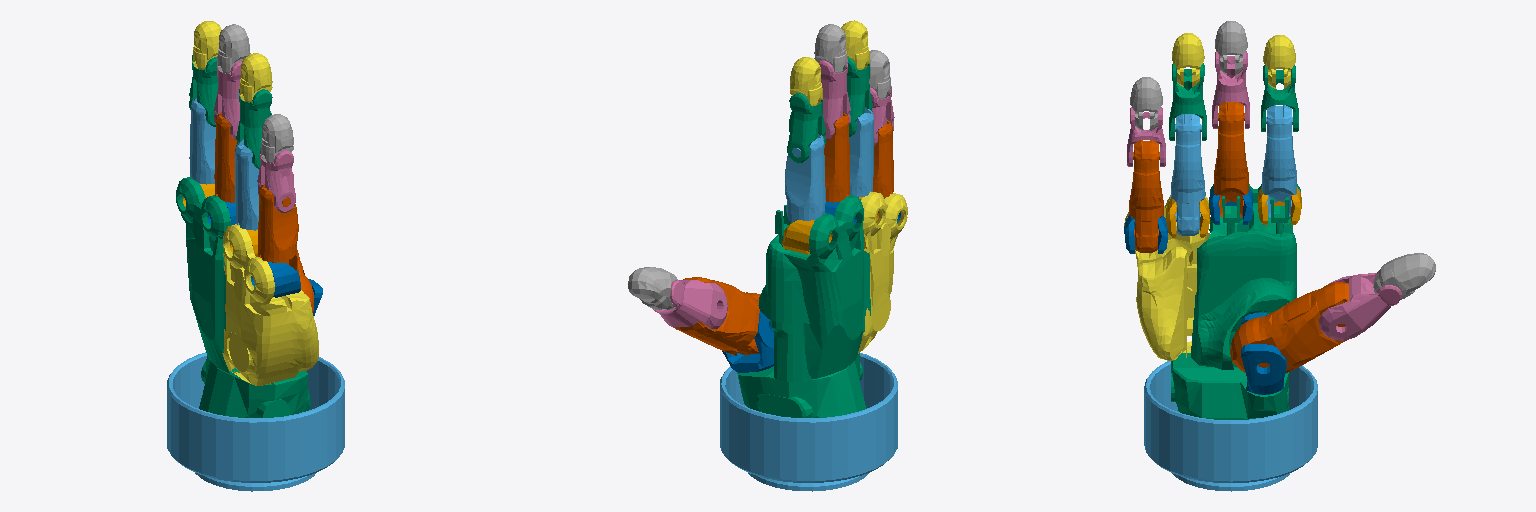
robot.urdf — svh:
<?xml version="1.0" encoding="utf-8"?>
<robot name="svh">
  <link name="base_link"/>
  <joint name="root_joint" type="fixed">
    <parent link="base_link"/>
    <child link="right_hand_base_link"/>
    <origin rpy="0 0 -1.57079" xyz="0 0 0"/>
  </joint>
  <link name="right_hand_base_link">
    <origin rpy="0 0 0" xyz="0 0 0"/>
    <visual>
      <origin rpy="0 0 0" xyz="0 0 -0.032"/>
      <geometry>
        <mesh filename="meshes/visual/base10.obj"/>
      </geometry>
    </visual>
    <collision>
      <origin rpy="0 0 0" xyz="0 0 -0.009"/>
      <geometry>
        <cylinder radius="0.045" length="0.045"/>
      </geometry>
    </collision>
  </link>
  <!-- LENGTH NOT FOUND IN DATASHEET! GUESSED!!! -->
  <link name="right_hand_e1">
    <visual>
      <origin rpy="0 0 0" xyz="0 0.01313 0"/>
      <geometry>
        <mesh filename="meshes/visual/h10.obj" scale="1 1 1"/>
      </geometry>
    </visual>
    <collision>
      <origin rpy="0 0 0" xyz="0 0.01313 0.013"/>
      <geometry>
        <box size="0.05 0.05 0.026"/>
      </geometry>
    </collision>
    <collision>
      <origin rpy="0 0 0" xyz="-0.00573 0.0035 0.05747"/>
      <geometry>
        <box size="0.0584 0.038 0.0641"/>
      </geometry>
    </collision>
<!--    <collision>-->
<!--      <origin rpy="0 0 0" xyz="0.0075 0.028 0.043"/>-->
<!--      <geometry>-->
<!--        <box size="0.02 0.01 0.02"/>-->
<!--      </geometry>-->
<!--    </collision>-->
<!--    <collision>-->
<!--      <origin rpy="0 0 0" xyz="-0.0186 0.028 0.069"/>-->
<!--      <geometry>-->
<!--        <box size="0.02 0.01 0.0147"/>-->
<!--      </geometry>-->
<!--    </collision>-->
<!--    <collision>-->
<!--      <origin rpy="0 0.7854 0" xyz="0 0.028 0.06"/>-->
<!--      <geometry>-->
<!--        <box size="0.0286 0.01 0.0147"/>-->
<!--      </geometry>-->
<!--    </collision>-->
  </link>
  <!-- LENGTH NOT FOUND IN DATASHEET! GUESSED!!! -->
  <link name="right_hand_e2">
    <visual>
      <origin xyz="-0.0007 0 -0.01002"/>
      <geometry>
        <mesh filename="meshes/visual/h11.obj" scale="1 1 1"/>
      </geometry>
    </visual>
    <collision>
      <origin rpy="0 0 0" xyz="0.016 0 0.02"/>
      <geometry>
        <box size="0.0246 0.035 0.0564"/>
      </geometry>
    </collision>
    <collision>
      <origin rpy="0 0 0" xyz="0.0032 -0.0083 0.048"/>
      <geometry>
        <box size="0.012 0.018 0.021"/>
      </geometry>
    </collision>
  </link>
  <!-- THUMB LINKS -->
  <link name="right_hand_z">
    <visual>
      <origin xyz="0 0 0.02442"/>
      <geometry>
        <mesh filename="meshes/visual/d10.obj" scale="1 1 1"/>
      </geometry>
    </visual>
    <collision>
      <origin xyz="0 0 0.02842"/>
      <geometry>
        <box size="0.024 0.0188 0.008"/>
      </geometry>
    </collision>
    <collision>
      <origin xyz="0.0125 0.0 0.04292"/>
      <geometry>
        <box size="0.006 0.024 0.033"/>
      </geometry>
    </collision>
    <collision>
      <origin xyz="-0.0125 0.0 0.04292"/>
      <geometry>
        <box size="0.006 0.024 0.033"/>
      </geometry>
    </collision>
  </link>
  <link name="right_hand_a">
    <visual>
      <geometry>
        <mesh filename="meshes/visual/d11.obj" scale="1 1 1"/>
      </geometry>
    </visual>
    <collision>
      <geometry>
        <mesh filename="meshes/collision/d11.obj" scale="1 1 1"/>
      </geometry>
    </collision>
  </link>
  <link name="right_hand_b">
    <visual>
      <geometry>
        <mesh filename="meshes/visual/d12.obj" scale="1 1 1"/>
      </geometry>
    </visual>
    <collision>
      <geometry>
        <mesh filename="meshes/collision/d12.obj" scale="1 1 1"/>
      </geometry>
    </collision>
  </link>
  <link name="right_hand_c">
    <inertial>
      <origin rpy="0 0 0" xyz="0.007 0.000 0.000"/>
      <mass value="0.02"/>
      <inertia ixx="1e-5" ixy="0.0" ixz="0.0" iyy="2e-5" iyz="0.0" izz="2e-5"/>
    </inertial>
    <visual>
      <geometry>
        <mesh filename="meshes/visual/d13.obj" scale="1 1 1"/>
      </geometry>
    </visual>
    <collision>
      <geometry>
        <mesh filename="meshes/collision/d13.obj" scale="1 1 1"/>
      </geometry>
    </collision>
  </link>
  <!-- INDEX FINGER LINKS -->
  <link name="right_hand_virtual_l">
    <visual>
      <origin xyz="0 0 0.01321"/>
      <geometry>
        <mesh filename="meshes/visual/f10_f20.obj"/>
      </geometry>
    </visual>
    <collision>
      <origin xyz="0 0 0.00121"/>
      <geometry>
        <sphere radius="0.012"/>
      </geometry>
    </collision>
  </link>
  <link name="right_hand_l">
    <visual>
      <geometry>
        <mesh filename="meshes/visual/f11.obj"/>
      </geometry>
    </visual>
    <collision>
      <geometry>
        <mesh filename="meshes/collision/f11.obj" scale="1 1 1"/>
      </geometry>
    </collision>
  </link>
  <link name="right_hand_p">
    <inertial>
      <origin rpy="0 0 0" xyz="0.01 0.000 0.000"/>
      <mass value="0.024"/>
      <inertia ixx="9e-7" ixy="0.0" ixz="0.0" iyy="3e-6" iyz="0.0" izz="2e-6"/>
    </inertial>
    <visual>
      <geometry>
        <mesh filename="meshes/visual/f12.obj"/>
      </geometry>
    </visual>
    <collision>
      <geometry>
        <mesh filename="meshes/collision/f12.obj"/>
      </geometry>
    </collision>
  </link>
  <link name="right_hand_t">
    <inertial>
      <origin rpy="0 0 0" xyz="0.007 0.000 0.000"/>
      <mass value="0.02"/>
      <inertia ixx="1e-5" ixy="0.0" ixz="0.0" iyy="2e-5" iyz="0.0" izz="2e-5"/>
    </inertial>
    <visual>
      <geometry>
        <mesh filename="meshes/visual/finger_tip.obj"/>
      </geometry>
    </visual>
    <collision>
      <geometry>
        <mesh filename="meshes/collision/finger_tip.obj" scale="1 1 1"/>
      </geometry>
    </collision>
  </link>
  <!-- MIDDLE FINGER LINKS -->
  <link name="right_hand_virtual_k">
    <visual>
      <origin xyz="0 0 0.01321"/>
      <geometry>
        <mesh filename="meshes/visual/f10_f20.obj"/>
      </geometry>
    </visual>
    <collision>
      <origin xyz="0 0 0.00321"/>
      <geometry>
        <sphere radius="0.01"/>
      </geometry>
    </collision>
  </link>
  <link name="right_hand_k">
    <visual>
      <geometry>
        <mesh filename="meshes/visual/f21.obj"/>
      </geometry>
    </visual>
    <collision>
      <geometry>
        <mesh filename="meshes/collision/f21.obj" scale="1 1 1"/>
      </geometry>
    </collision>
  </link>
  <link name="right_hand_o">
    <visual>
      <geometry>
        <mesh filename="meshes/visual/f22_f32.obj"/>
      </geometry>
    </visual>
    <collision>
      <geometry>
        <mesh filename="meshes/collision/f22_f32.obj" scale="1 1 1"/>
      </geometry>
    </collision>
  </link>
  <link name="right_hand_s">
    <inertial>
      <origin rpy="0 0 0" xyz="0.007 0.000 0.000"/>
      <mass value="0.02"/>
      <inertia ixx="1e-5" ixy="0.0" ixz="0.0" iyy="2e-5" iyz="0.0" izz="2e-5"/>
    </inertial>
    <visual>
      <geometry>
        <mesh filename="meshes/visual/finger_tip.obj"/>
      </geometry>
    </visual>
    <collision>
      <geometry>
        <mesh filename="meshes/collision/finger_tip.obj" scale="1 1 1"/>
      </geometry>
    </collision>
  </link>
  <!-- RING FINGER LINKS -->
  <link name="right_hand_virtual_j">
    <visual>
      <origin xyz="0 0 -0.01321"/>
      <geometry>
        <mesh filename="meshes/visual/f30_f40.obj"/>
      </geometry>
    </visual>
    <collision>
      <origin xyz="0 0 -0.00321"/>
      <geometry>
        <sphere radius="0.01"/>
      </geometry>
    </collision>
  </link>
  <link name="right_hand_j">
    <visual>
      <geometry>
        <mesh filename="meshes/visual/f31.obj"/>
      </geometry>
    </visual>
    <collision>
      <geometry>
        <mesh filename="meshes/collision/f31.obj" scale="1 1 1"/>
      </geometry>
    </collision>
  </link>
  <link name="right_hand_n">
    <visual>
      <geometry>
        <mesh filename="meshes/visual/f22_f32.obj"/>
      </geometry>
    </visual>
    <collision>
      <geometry>
        <mesh filename="meshes/collision/f22_f32.obj" scale="1 1 1"/>
      </geometry>
    </collision>
  </link>
  <link name="right_hand_r">
    <inertial>
      <origin rpy="0 0 0" xyz="0.007 0.000 0.000"/>
      <mass value="0.02"/>
      <inertia ixx="1e-5" ixy="0.0" ixz="0.0" iyy="2e-5" iyz="0.0" izz="2e-5"/>
    </inertial>
    <visual>
      <geometry>
        <mesh filename="meshes/visual/finger_tip.obj"/>
      </geometry>
    </visual>
    <collision>
      <geometry>
        <mesh filename="meshes/collision/finger_tip.obj" scale="1 1 1"/>
      </geometry>
    </collision>
  </link>
  <!-- LITTLE FINGER LINKS -->
  <link name="right_hand_virtual_i">
    <visual>
      <origin xyz="0 0 -0.01321"/>
      <geometry>
        <mesh filename="meshes/visual/f30_f40.obj"/>
      </geometry>
    </visual>
    <collision>
      <origin xyz="0 0 -0.00321"/>
      <geometry>
        <sphere radius="0.01"/>
      </geometry>
    </collision>
  </link>
  <link name="right_hand_i">
    <visual>
      <geometry>
        <mesh filename="meshes/visual/f41.obj"/>
      </geometry>
    </visual>
    <collision>
      <geometry>
        <mesh filename="meshes/collision/f41.obj"/>
      </geometry>
    </collision>
  </link>
  <link name="right_hand_m">
    <inertial>
      <origin rpy="0 0 0" xyz="0.007 0.000 0.000"/>
      <mass value="0.02"/>
      <inertia ixx="8e-7" ixy="0.0" ixz="0.0" iyy="2e-6" iyz="0.0" izz="2e-6"/>
    </inertial>
    <visual>
      <geometry>
        <mesh filename="meshes/visual/f42.obj"/>
      </geometry>
    </visual>
    <collision>
      <geometry>
        <mesh filename="meshes/collision/f42.obj"/>
      </geometry>
    </collision>
  </link>
  <link name="right_hand_q">
    <inertial>
      <origin rpy="0 0 0" xyz="0.007 0.000 0.000"/>
      <mass value="0.02"/>
      <inertia ixx="1e-5" ixy="0.0" ixz="0.0" iyy="2e-5" iyz="0.0" izz="2e-5"/>
    </inertial>
    <visual>
      <geometry>
        <mesh filename="meshes/visual/finger_tip.obj"/>
      </geometry>
    </visual>
    <collision>
      <geometry>
        <mesh filename="meshes/collision/finger_tip.obj"/>
      </geometry>
    </collision>
  </link>
  <joint name="right_hand_Thumb_Flexion" type="revolute">
    <parent link="right_hand_z"/>
    <child link="right_hand_a"/>
    <limit effort="1000.0" lower="0.0" upper="0.9704" velocity="1"/>
    <origin rpy="1.57079 -0.6004 1.57079" xyz="0 0 0.04596"/>
    <axis xyz="0 0 1"/>
  </joint>
  <!-- BASE_LINE JOINTS -->
  <joint name="right_hand_Thumb_Opposition" type="revolute">
    <parent link="right_hand_e1"/>
    <child link="right_hand_z"/>
    <limit effort="1000.0" lower="0.0" upper="0.9879" velocity="1"/>
    <origin rpy="0 0.2618 1.571" xyz="-0.0169 0.02626 0"/>
    <axis xyz="0 0 -1"/>
  </joint>
  <joint name="right_hand_f4" type="fixed">
    <parent link="right_hand_base_link"/>
    <child link="right_hand_e1"/>
    <origin rpy="0 0 0" xyz="0 -0.01313 0"/>
  </joint>
  <joint name="right_hand_j5" type="revolute">
    <parent link="right_hand_e1"/>
    <child link="right_hand_e2"/>
    <limit effort="1000.0" lower="0.0" upper="0.98786" velocity="1"/>
    <origin rpy="0 0 0" xyz="0.0184 0.006 0.0375"/>
    <axis xyz="0 0 1"/>
    <mimic joint="right_hand_Thumb_Opposition" multiplier="1" offset="0"/>
  </joint>
  <!-- THUMB JOINTS -->
  <joint name="right_hand_j3" type="revolute">
    <parent link="right_hand_a"/>
    <child link="right_hand_b"/>
    <limit effort="1000.0" lower="0.0" upper="0.98506" velocity="1"/>
    <origin rpy="0 0 0" xyz="0.0485 0 0"/>
    <axis xyz="0 0 1"/>
    <mimic joint="right_hand_Thumb_Flexion" multiplier="1.01511" offset="0"/>
  </joint>
  <joint name="right_hand_j4" type="revolute">
    <parent link="right_hand_b"/>
    <child link="right_hand_c"/>
    <limit effort="1000.0" lower="0.0" upper="1.406" velocity="1"/>
    <origin rpy="0 0 0" xyz="0.030 0 0"/>
    <axis xyz="0 0 1"/>
    <mimic joint="right_hand_Thumb_Flexion" multiplier="1.44889" offset="0"/>
  </joint>
  <!-- INDEX FINGER JOINTS -->
  <joint name="right_hand_Index_Finger_Distal" type="revolute">
    <parent link="right_hand_l"/>
    <child link="right_hand_p"/>
    <limit effort="1000.0" lower="0" upper="1.334" velocity="1"/>
    <origin rpy="0 0 0" xyz="0.04804 0 0"/>
    <axis xyz="0 0 1"/>
  </joint>
  <joint name="right_hand_Index_Finger_Proximal" type="revolute">
    <parent link="right_hand_virtual_l"/>
    <child link="right_hand_l"/>
    <limit effort="1000.0" lower="0.0" upper="0.79849" velocity="1"/>
    <origin rpy="-1.5707 0 0" xyz="0 0 0"/>
    <axis xyz="0 0 1"/>
  </joint>
  <!-- JOINT Finger_Spread in BASE_LINE section for better UX -->
  <joint name="right_hand_j14" type="revolute">
    <parent link="right_hand_p"/>
    <child link="right_hand_t"/>
    <limit effort="1000.0" lower="0" upper="1.394" velocity="1"/>
    <origin rpy="0 0 0" xyz="0.026 0 0"/>
    <axis xyz="0 0 1"/>
    <mimic joint="right_hand_Index_Finger_Distal" multiplier="1.0450" offset="0"/>
  </joint>
  <!-- MIDDLE FINGER JOINTS -->
  <joint name="right_hand_Middle_Finger_Proximal" type="revolute">
    <parent link="right_hand_virtual_k"/>
    <child link="right_hand_k"/>
    <limit effort="1000.0" lower="0.0" upper="0.79849" velocity="1"/>
    <origin rpy="-1.5707 0 0" xyz="0 0 0"/>
    <axis xyz="0 0 1"/>
  </joint>
  <joint name="right_hand_Middle_Finger_Distal" type="revolute">
    <parent link="right_hand_k"/>
    <child link="right_hand_o"/>
    <limit effort="1000.0" lower="0" upper="1.334" velocity="1"/>
    <origin rpy="0 0 0" xyz="0.05004 0 0"/>
    <axis xyz="0 0 1"/>
  </joint>
  <joint name="right_hand_j15" type="revolute">
    <parent link="right_hand_o"/>
    <child link="right_hand_s"/>
    <limit effort="1000.0" lower="0" upper="1.334" velocity="1"/>
    <origin rpy="0 0 0" xyz="0.032 0 0"/>
    <axis xyz="0 0 1"/>
    <mimic joint="right_hand_Middle_Finger_Distal" multiplier="1.0454" offset="0"/>
  </joint>
  <!-- RING FINGER JOINTS -->
  <joint name="right_hand_Ring_Finger" type="revolute">
    <parent link="right_hand_virtual_j"/>
    <child link="right_hand_j"/>
    <limit effort="1000.0" lower="0.0" upper="0.98175" velocity="1"/>
    <origin rpy="1.5707 0 0" xyz="0 0 0"/>
    <axis xyz="0 0 1"/>
  </joint>
  <joint name="right_hand_j12" type="revolute">
    <parent link="right_hand_j"/>
    <child link="right_hand_n"/>
    <limit effort="1000.0" lower="0" upper="1.334" velocity="1"/>
    <origin rpy="0 0 0" xyz="0.05004 0 0"/>
    <axis xyz="0 0 1"/>
    <mimic joint="right_hand_Ring_Finger" multiplier="1.3588" offset="0"/>
  </joint>
  <joint name="right_hand_j16" type="revolute">
    <parent link="right_hand_n"/>
    <child link="right_hand_r"/>
    <limit effort="1000.0" lower="0" upper="1.395" velocity="1"/>
    <origin rpy="0 0 0" xyz="0.032 0 0"/>
    <axis xyz="0 0 1"/>
    <mimic joint="right_hand_Ring_Finger" multiplier="1.42093" offset="0"/>
  </joint>
  <!-- PINKY JOINTS -->
  <joint name="right_hand_Pinky" type="revolute">
    <parent link="right_hand_virtual_i"/>
    <child link="right_hand_i"/>
    <limit effort="1000.0" lower="0.0" upper="0.98175" velocity="1"/>
    <origin rpy="1.5707 0 0" xyz="0 0 0"/>
    <axis xyz="0 0 1"/>
  </joint>
  <joint name="right_hand_j13" type="revolute">
    <parent link="right_hand_i"/>
    <child link="right_hand_m"/>
    <limit effort="1000.0" lower="0" upper="1.334" velocity="1"/>
    <origin rpy="0 0 0" xyz="0.04454 0 0"/>
    <axis xyz="0 0 1"/>
    <mimic joint="right_hand_Pinky" multiplier="1.35880" offset="0"/>
  </joint>
  <joint name="right_hand_j17" type="revolute">
    <parent link="right_hand_m"/>
    <child link="right_hand_q"/>
    <limit effort="1000.0" lower="0" upper="1.3971" velocity="1"/>
    <origin rpy="0 0 0" xyz="0.022 0 0"/>
    <axis xyz="0 0 1"/>
    <mimic joint="right_hand_Pinky" multiplier="1.42307" offset="0"/>
  </joint>
  <joint name="right_hand_index_spread" type="revolute">
    <parent link="right_hand_e1"/>
    <child link="right_hand_virtual_l"/>
    <limit effort="1000.0" lower="0.0" upper="0.28833" velocity="1"/>
    <origin rpy="0 -1.5707 1.5707" xyz="-0.025 0 0.110"/>
    <axis xyz="0 0 1"/>
    <mimic joint="right_hand_Finger_Spread" multiplier="0.5" offset="0"/>
  </joint>
  <joint name="right_hand_middle_spread_dummy" type="fixed">
    <parent link="right_hand_e1"/>
    <child link="right_hand_virtual_k"/>
    <origin rpy="0 -1.5707 1.5707" xyz="0 0 0.110"/>
  </joint>
  <joint name="right_hand_ring_spread" type="revolute">
    <parent link="right_hand_e2"/>
    <child link="right_hand_virtual_j"/>
    <limit effort="1000.0" lower="0.0" upper="0.28833" velocity="1"/>
    <origin rpy="-1.5707 -1.5707 0" xyz="0.003855 -0.006 0.0655"/>
    <axis xyz="0 0 1"/>
    <mimic joint="right_hand_Finger_Spread" multiplier="0.5" offset="0"/>
  </joint>
  <joint name="right_hand_Finger_Spread" type="revolute">
    <parent link="right_hand_e2"/>
    <child link="right_hand_virtual_i"/>
    <limit effort="1000.0" lower="0.0" upper="0.5829" velocity="1"/>
    <origin rpy="-1.5707 -1.5707 0" xyz="0.025355 -0.006 0.056"/>
    <axis xyz="0 0 1"/>
  </joint>

  <link name="thtip"/>
  <link name="fftip"/>
  <link name="mftip"/>
  <link name="rftip"/>
  <link name="lftip"/>
  <joint name="thtip_joint" type="fixed">
    <parent link="right_hand_c"/>
    <child link="thtip"/>
    <origin rpy="0.00000 -0.00000 0.00000" xyz="0.0275 0.000 0.000"/>
  </joint>
  <joint name="fftip_joint" type="fixed">
    <parent link="right_hand_t"/>
    <child link="fftip"/>
    <origin rpy="0.00000 -0.00000 0.00000" xyz="0.014 0.000 0.000"/>
  </joint>
  <joint name="mftip_joint" type="fixed">
    <parent link="right_hand_s"/>
    <child link="mftip"/>
    <origin rpy="0.00000 -0.00000 0.00000" xyz="0.014 0.000 0.000"/>
  </joint>
  <joint name="rftip_joint" type="fixed">
    <parent link="right_hand_r"/>
    <child link="rftip"/>
    <origin rpy="0.00000 -0.00000 0.00000" xyz="0.014 0.000 0.000"/>
  </joint>
  <joint name="lftip_joint" type="fixed">
    <parent link="right_hand_q"/>
    <child link="lftip"/>
    <origin rpy="0.00000 -0.00000 0.00000" xyz="0.014 0.000 0.000"/>
  </joint>
</robot>

--- Facts derived from the render (not from the file) ---
3 views of the same robot in one strip: view 1: azimuth 30°, elevation 25°; view 2: azimuth 150°, elevation 25°; view 3: azimuth 270°, elevation 25° (orthographic).
Model svh with 29 links and 28 joints (20 revolute, 8 fixed), rooted at base_link, posed all joints at 0.
Visible links, largest first — view 1: right_hand_base_link, right_hand_e1, right_hand_e2, right_hand_i, right_hand_j, right_hand_l, right_hand_k, right_hand_n, right_hand_m, right_hand_o, right_hand_p, right_hand_q (+4 smaller); view 2: right_hand_e1, right_hand_base_link, right_hand_e2, right_hand_a, right_hand_l, right_hand_b, right_hand_k, right_hand_j, right_hand_p, right_hand_c, right_hand_o, right_hand_z (+8 smaller); view 3: right_hand_e1, right_hand_base_link, right_hand_e2, right_hand_a, right_hand_j, right_hand_b, right_hand_i, right_hand_k, right_hand_l, right_hand_z, right_hand_c, right_hand_o (+11 smaller).
Link boxes in pixels (<box>): right_hand_base_link: <box>167,352,344,491</box>; right_hand_e1: <box>176,177,310,417</box>; right_hand_e2: <box>222,224,318,385</box>; right_hand_i: <box>258,184,298,272</box>; right_hand_j: <box>235,139,258,230</box>; right_hand_l: <box>189,98,215,184</box>; right_hand_k: <box>214,112,236,202</box>; right_hand_n: <box>236,89,272,168</box>; right_hand_m: <box>257,149,295,212</box>; right_hand_o: <box>214,61,241,139</box>; right_hand_p: <box>189,55,217,126</box>; right_hand_q: <box>261,114,293,162</box>; right_hand_e1: <box>737,195,870,417</box>; right_hand_base_link: <box>720,353,897,491</box>; right_hand_e2: <box>858,192,907,353</box>; right_hand_a: <box>675,277,760,355</box>; right_hand_l: <box>785,134,825,222</box>; right_hand_b: <box>653,280,727,329</box>; right_hand_k: <box>824,112,849,202</box>; right_hand_j: <box>849,107,873,197</box>; right_hand_p: <box>787,93,825,162</box>; right_hand_c: <box>628,267,677,309</box>; right_hand_o: <box>818,59,850,140</box>; right_hand_z: <box>722,305,773,372</box>; right_hand_e1: <box>1171,184,1300,419</box>; right_hand_base_link: <box>1144,361,1317,491</box>; right_hand_e2: <box>1124,195,1209,360</box>; right_hand_a: <box>1230,282,1349,372</box>; right_hand_j: <box>1171,114,1205,235</box>; right_hand_b: <box>1319,270,1401,340</box>; right_hand_i: <box>1129,140,1163,252</box>; right_hand_k: <box>1214,102,1248,217</box>; right_hand_l: <box>1262,105,1296,223</box>; right_hand_z: <box>1241,313,1286,394</box>; right_hand_c: <box>1373,253,1435,299</box>; right_hand_o: <box>1212,51,1249,128</box>.
Size in the robot's own frame: 0.0936 by 0.1609 by 0.2465 metres.
Meshes: 17 distinct files referenced, 23 mesh visuals loaded (17 OBJ).